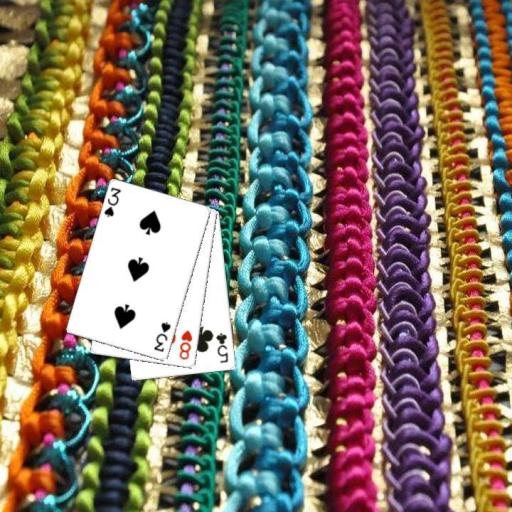3S: (101, 184, 122, 219), (151, 320, 172, 354)
5C: (213, 330, 230, 364)
8H: (176, 327, 194, 361)
